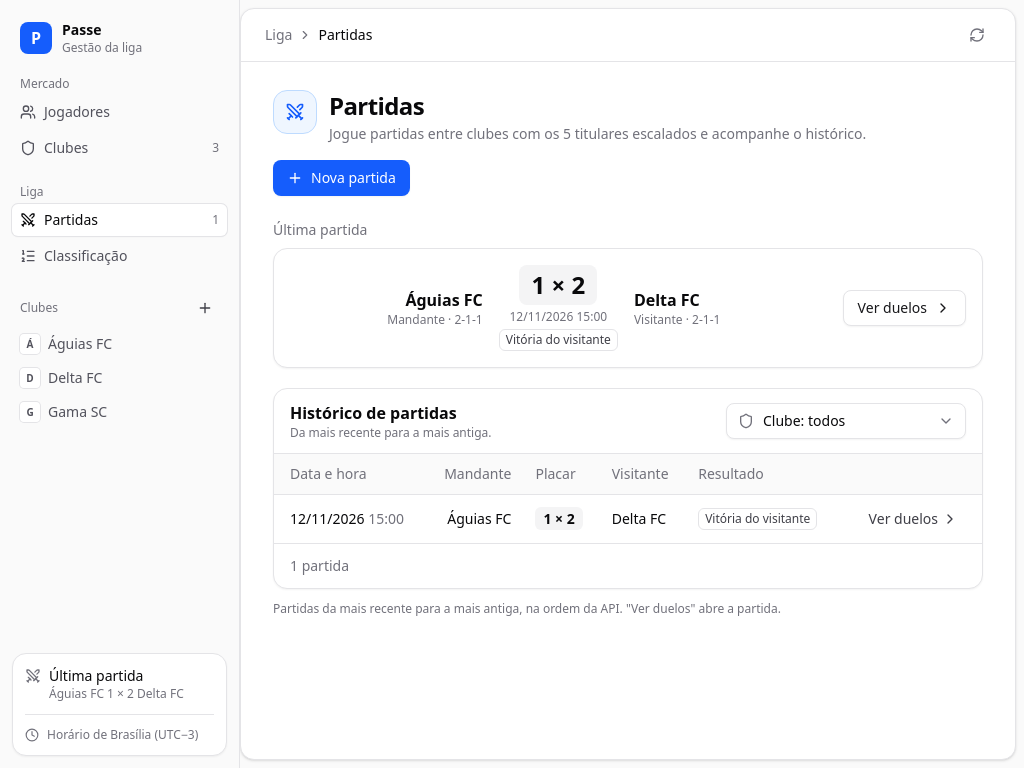
Scenario: Histórico de partidas › filtra por clube
The width and height of the screenshot is (1024, 768).
Expected: the row "Águias FC" is shown, [274,494,982,543]
Select "Gama SC" in the dropdown named "Clube": (846, 421) [726,403,966,439]
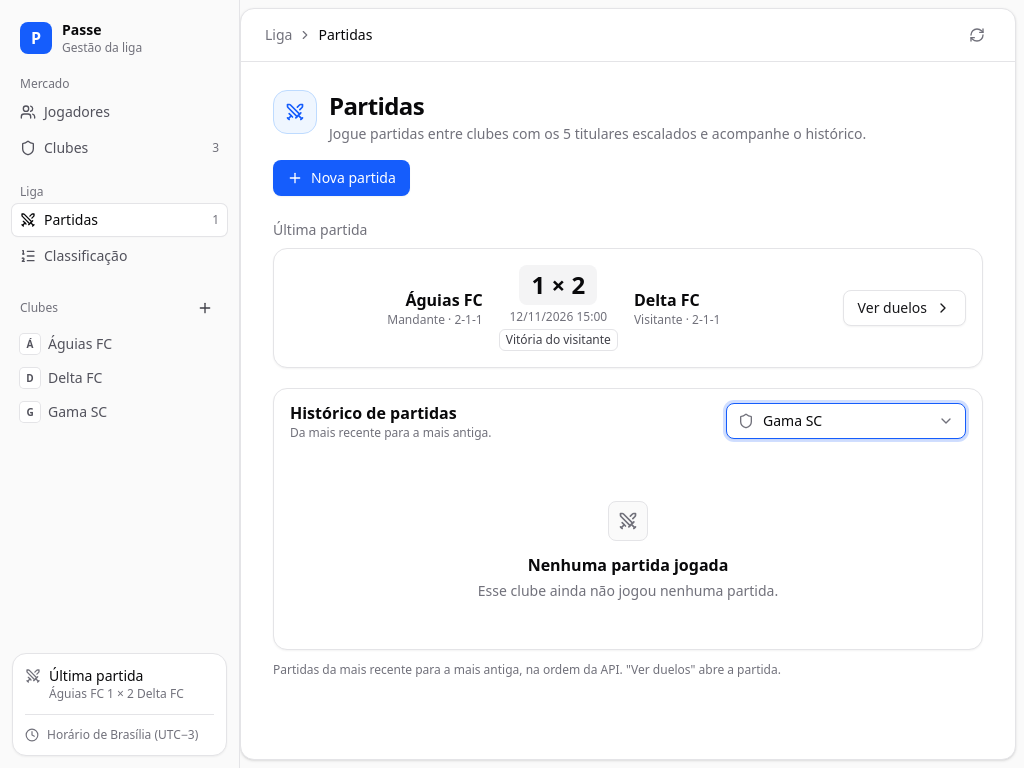
Now the text "Esse clube ainda não jogou nenhuma partida." is shown, box [478,581,778,601]
